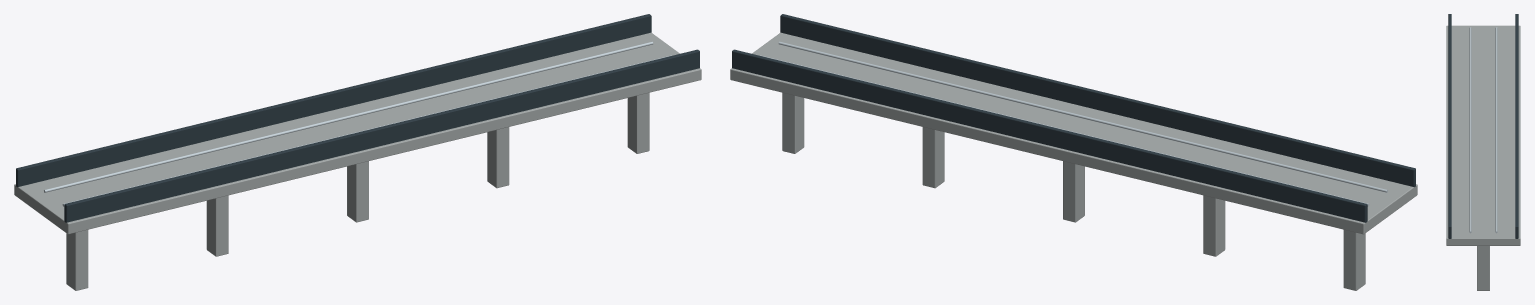
Rendered from rail-viaduct.glb.
3 views of the same model, side by side, from view 1: azimuth 30°, elevation 25°; view 2: azimuth 150°, elevation 25°; view 3: azimuth 270°, elevation 25° (orthographic). The views are drawn at different scales.
Visible parts, largest first — view 1: DC_Mesh_DC_Concrete, DC_Mesh_DC_Steel, DC_Mesh_DC_Silver; view 2: DC_Mesh_DC_Concrete, DC_Mesh_DC_Steel, DC_Mesh_DC_Silver; view 3: DC_Mesh_DC_Concrete, DC_Mesh_DC_Steel, DC_Mesh_DC_Silver.
Part boxes in pixels (x1=…): DC_Mesh_DC_Concrete: x1=14, y1=32, x2=701, y2=290; DC_Mesh_DC_Steel: x1=16, y1=14, x2=699, y2=222; DC_Mesh_DC_Silver: x1=44, y1=41, x2=671, y2=206; DC_Mesh_DC_Concrete: x1=730, y1=32, x2=1417, y2=290; DC_Mesh_DC_Steel: x1=732, y1=14, x2=1415, y2=222; DC_Mesh_DC_Silver: x1=760, y1=41, x2=1387, y2=206; DC_Mesh_DC_Concrete: x1=1446, y1=25, x2=1520, y2=290; DC_Mesh_DC_Steel: x1=1448, y1=14, x2=1518, y2=238; DC_Mesh_DC_Silver: x1=1469, y1=27, x2=1497, y2=233.
Size of the model in its own units: 27.1 by 4.43 by 4.
